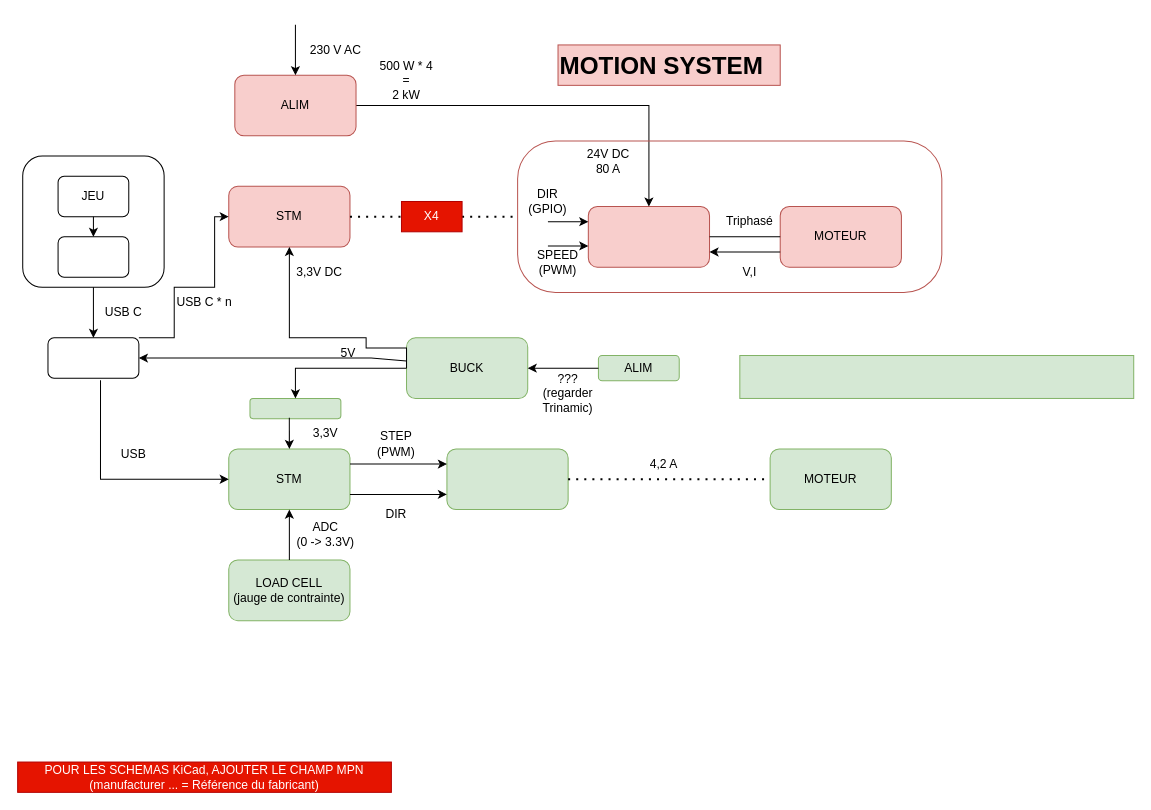
Some shapes in this 1151 by 810 pixel diagram are drawn without their labels. Here are the shapes that lost their labels. From the top down, the centre of each, then its label:
At (93,256): "SIM FEEDBACK (FB)".
At (648,236): "BLDC DRIVER".
At (93,357): "HUB".
At (936,376): "FREIN AVEC RETOUR DE FORCE".
At (295,408): "LDO".
At (507,479): "STEPPER DRIVER".
